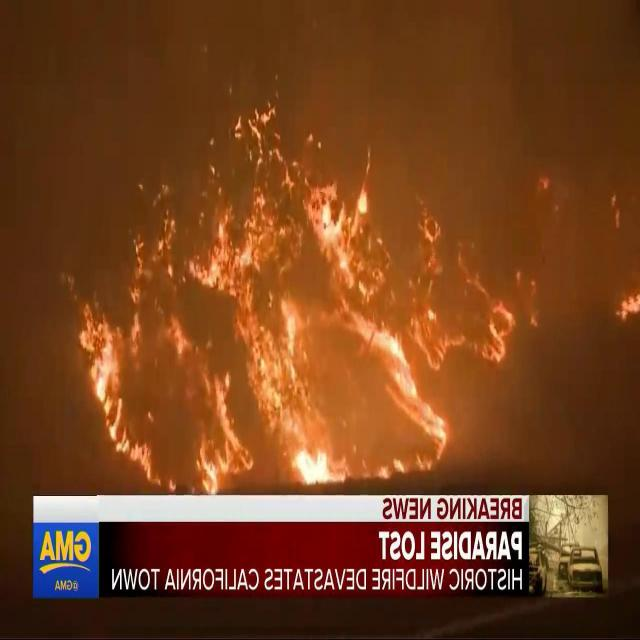Fire: (80, 175, 502, 483), (203, 90, 323, 172), (612, 287, 639, 321)
